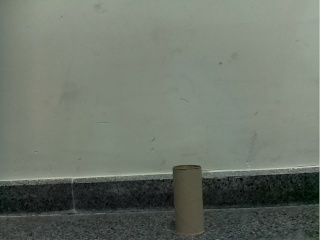rollo papel: (173, 165, 203, 234)
